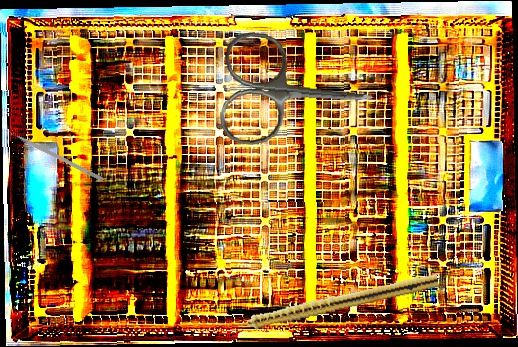Chopper: (2, 122, 108, 182)
Handpiece: (224, 268, 440, 337)
Iris Scissors: (217, 30, 379, 155)
